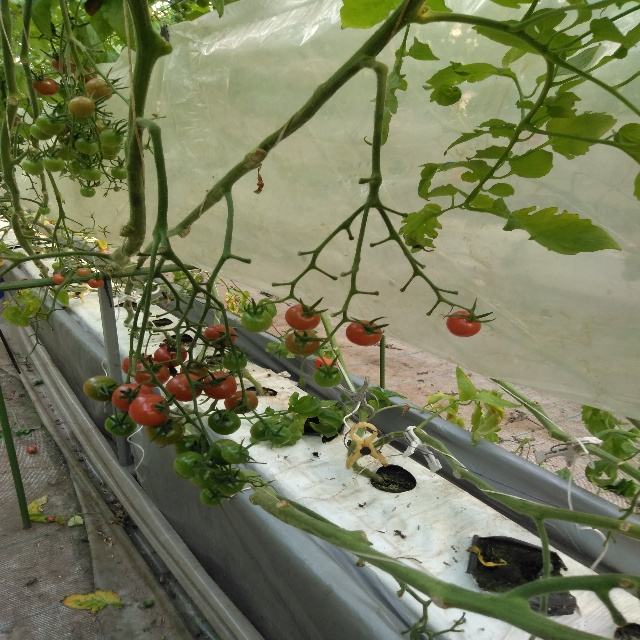l_fully_ripened: (129, 393, 170, 426), (112, 383, 153, 411), (446, 310, 482, 338), (166, 374, 203, 401), (345, 320, 383, 346), (203, 372, 237, 400), (285, 304, 320, 331), (153, 343, 188, 369), (122, 354, 156, 377), (203, 324, 236, 347), (32, 77, 59, 96), (88, 278, 104, 288)
l_green: (174, 451, 207, 478), (207, 409, 241, 435), (207, 439, 239, 466), (241, 308, 274, 333), (215, 469, 246, 495), (104, 413, 137, 437), (174, 434, 208, 456), (250, 418, 281, 441), (313, 366, 343, 388), (36, 114, 66, 136), (189, 467, 217, 490), (265, 424, 291, 445), (222, 350, 248, 371), (222, 444, 249, 464), (200, 487, 227, 506), (30, 122, 54, 141), (74, 137, 98, 155), (100, 129, 123, 147), (257, 298, 277, 318), (43, 154, 65, 172), (22, 158, 44, 175), (82, 167, 102, 182), (98, 143, 120, 156), (110, 166, 127, 180), (79, 185, 96, 198), (10, 148, 25, 158), (11, 133, 24, 143), (39, 206, 51, 215), (22, 228, 35, 236), (52, 262, 63, 271)
l_half_ripened: (146, 419, 184, 446), (133, 361, 170, 388), (83, 375, 119, 401), (224, 390, 259, 415), (285, 331, 319, 355), (86, 79, 114, 101), (180, 359, 209, 380), (68, 97, 95, 118), (52, 57, 75, 76), (76, 268, 92, 277), (53, 273, 66, 284)
